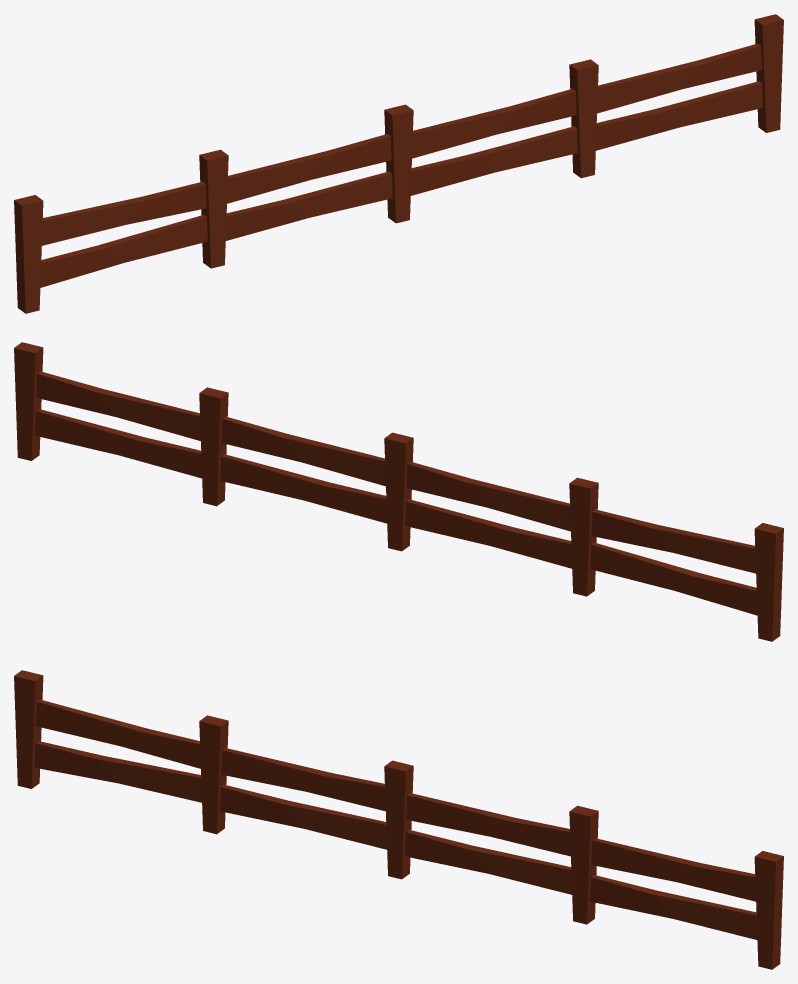
Rendered from Fence_Wood_Long.FBX.
The picture shows the model from 3 angles, top to bottom: view 1: azimuth 30°, elevation 25°; view 2: azimuth 150°, elevation 25°; view 3: azimuth 330°, elevation 25°; orthographic projection.
Parts seen in each view (by area): view 1: Box008; view 2: Box008; view 3: Box008.
Boxes of the visible parts, x1=… form: Box008: x1=14, y1=14, x2=783, y2=313; Box008: x1=14, y1=342, x2=783, y2=641; Box008: x1=14, y1=670, x2=783, y2=969.
Size of the model in its own units: 1099 by 150 by 20.
